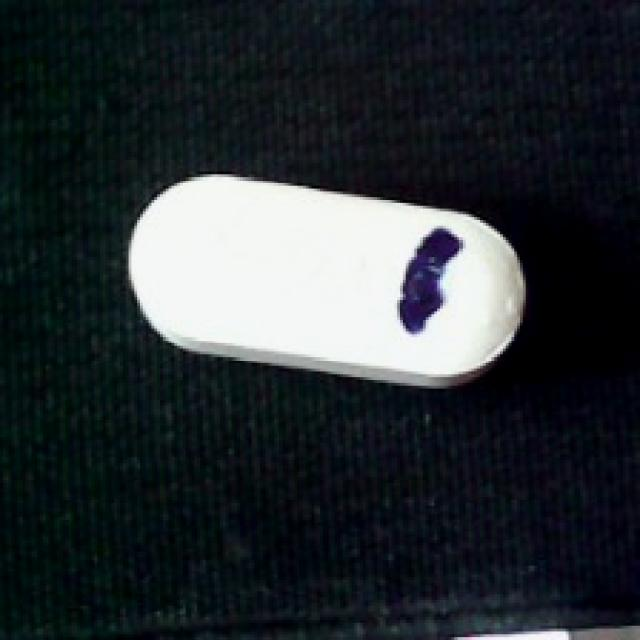defected: (117, 174, 537, 391)
